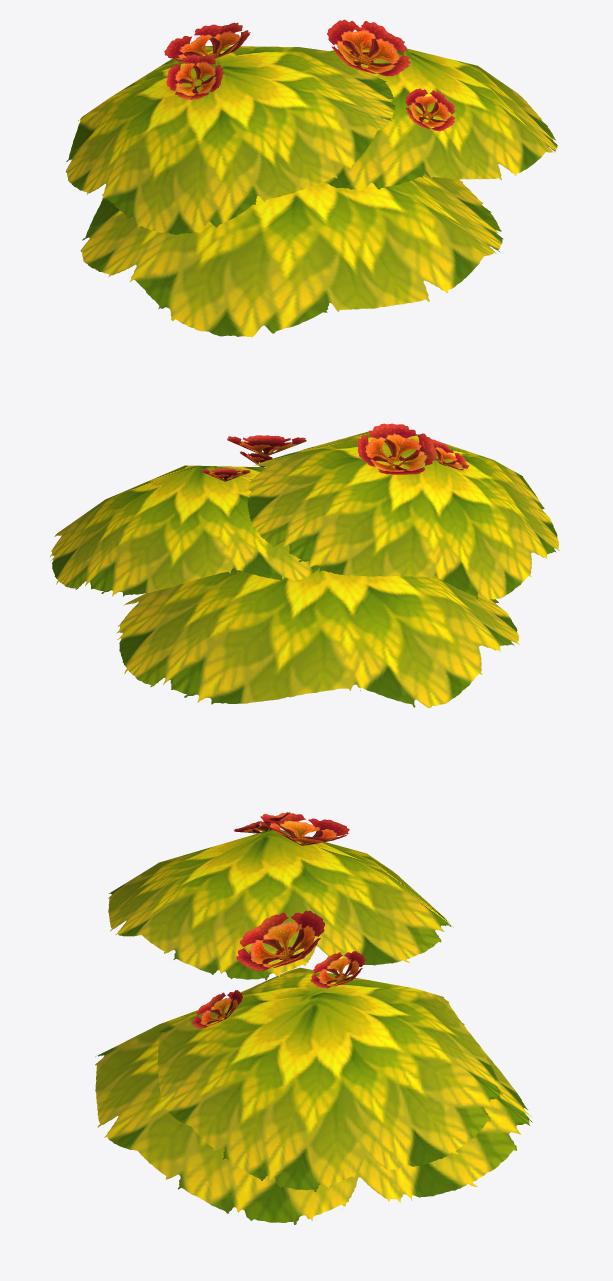
Rendered from Bush_08b.FBX.
The picture shows the model from 3 angles, top to bottom: view 1: azimuth 30°, elevation 25°; view 2: azimuth 150°, elevation 25°; view 3: azimuth 270°, elevation 25°; orthographic projection. The views are drawn at different scales.
Visible parts, largest first — view 1: Bush_08b; view 2: Bush_08b; view 3: Bush_08b.
Boxes of the visible parts, <box> form: Bush_08b: <box>65,19,557,337</box>; Bush_08b: <box>50,423,559,707</box>; Bush_08b: <box>95,812,532,1224</box>.
Bounding box in the file's own units: 1.29 × 0.5916 × 1.09.
